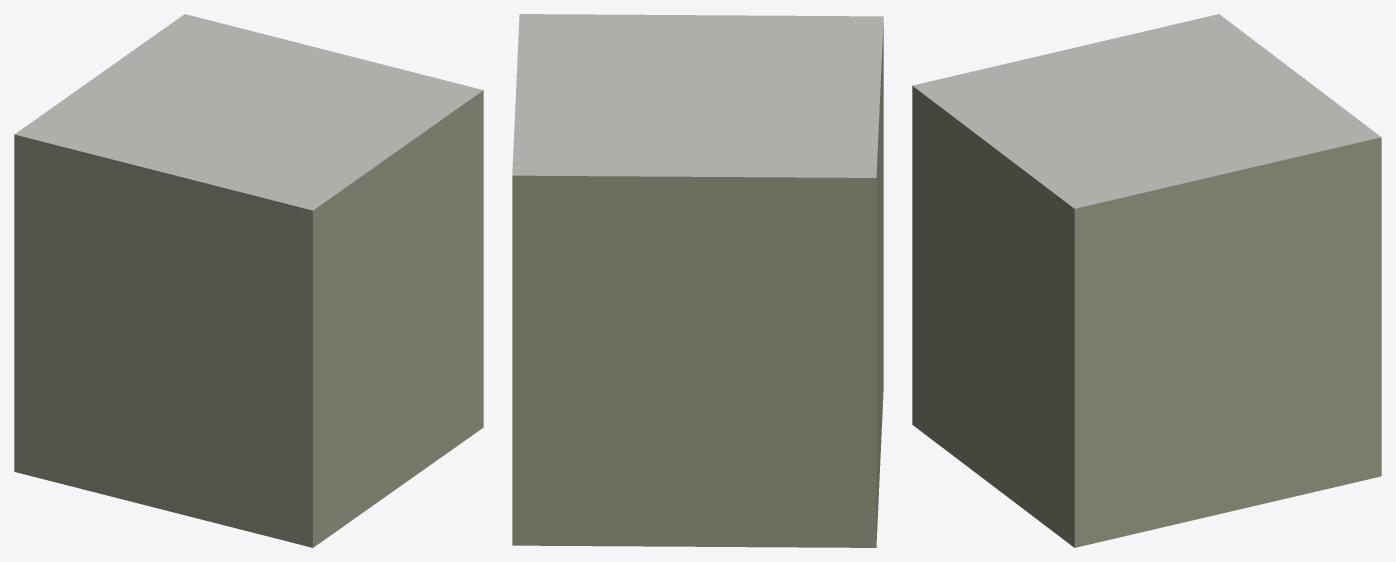
File: nyc-1016019-0.glb
3 views of the same model, side by side, from view 1: azimuth 30°, elevation 25°; view 2: azimuth 150°, elevation 25°; view 3: azimuth 270°, elevation 25° (orthographic). The views are drawn at different scales.
Visible parts, largest first — view 1: nyc-1016019-0; view 2: nyc-1016019-0; view 3: nyc-1016019-0.
Boxes of the visible parts, x1,y1,x2,y2 form: nyc-1016019-0: (14,14,483,547); nyc-1016019-0: (512,14,883,547); nyc-1016019-0: (912,14,1381,547).
Size of the model in its own units: 25.28 by 20.51 by 25.73.
